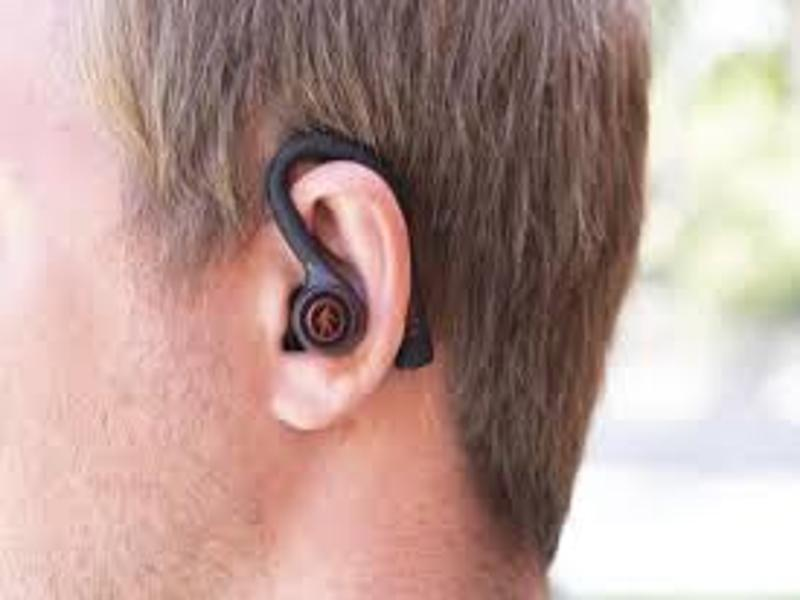headphone: (283, 238, 368, 356)
